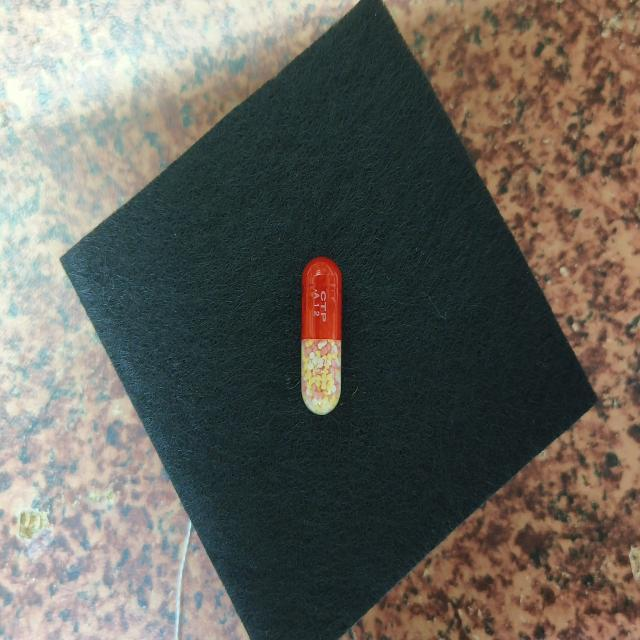Intact Capsule: (301, 256, 342, 415)
